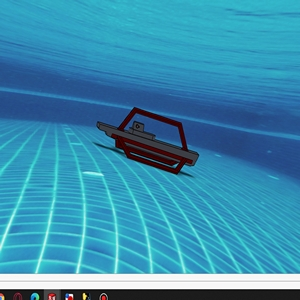submarine: (98, 108, 204, 175)
